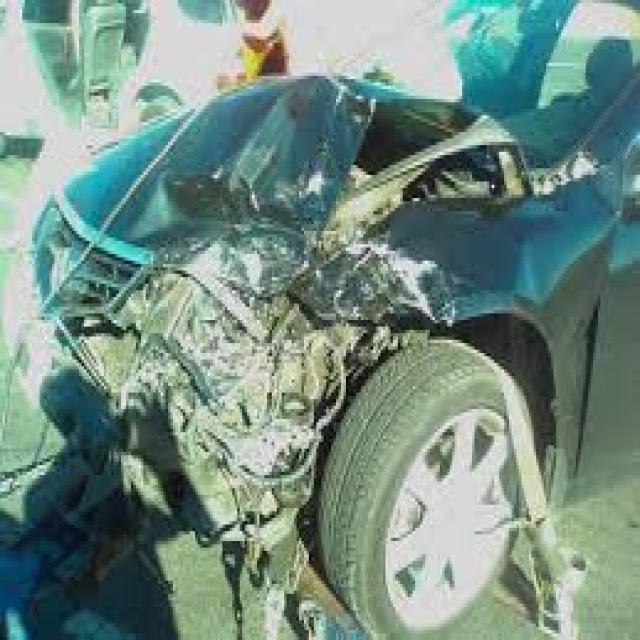severe: (0, 43, 608, 584)
